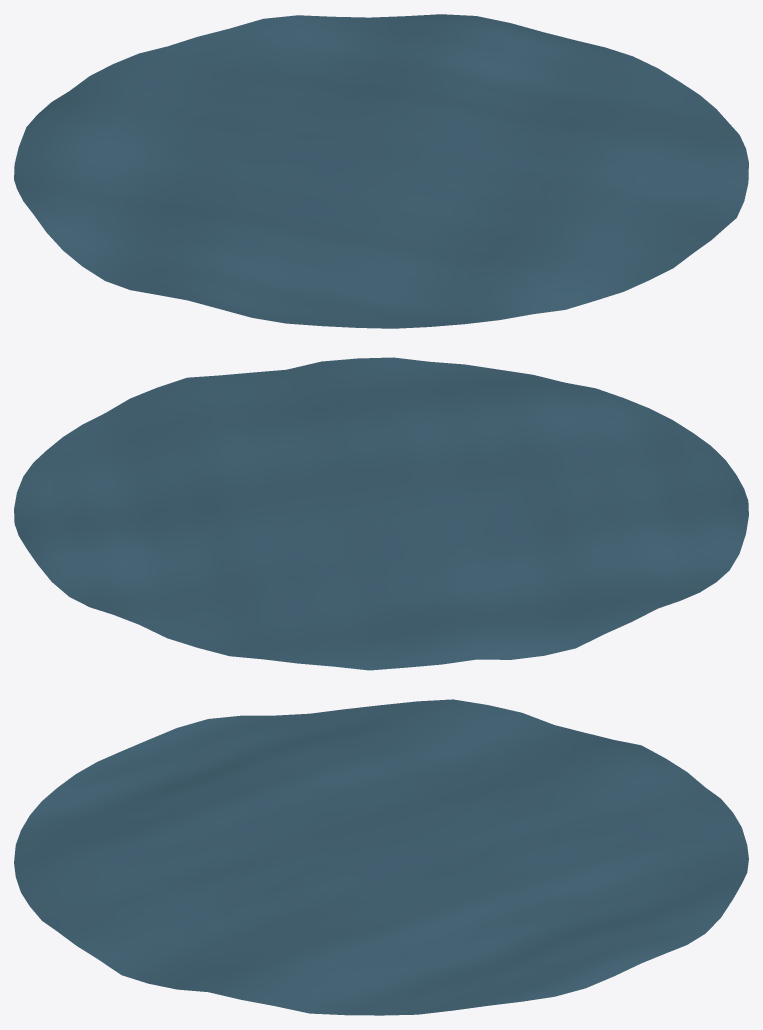
File: ocean-environment.glb
3 views of the same model, one above another, from view 1: azimuth 30°, elevation 25°; view 2: azimuth 150°, elevation 25°; view 3: azimuth 270°, elevation 25° (orthographic).
Visible parts, largest first — view 1: Seabed; view 2: Seabed; view 3: Seabed.
Boxes of the visible parts, x1,y1,x2,y2 form: Seabed: (14, 14, 748, 328); Seabed: (14, 357, 748, 670); Seabed: (14, 699, 748, 1015).
Size of the model in its own units: 70 by 1.6 by 70.
